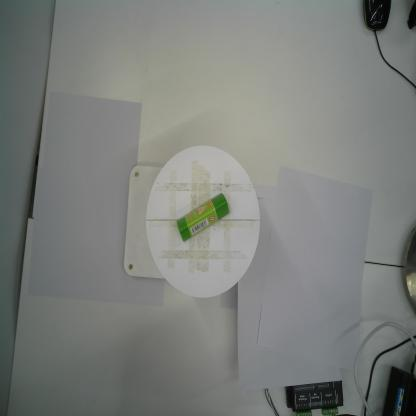Stationery: (175, 192, 231, 245)
